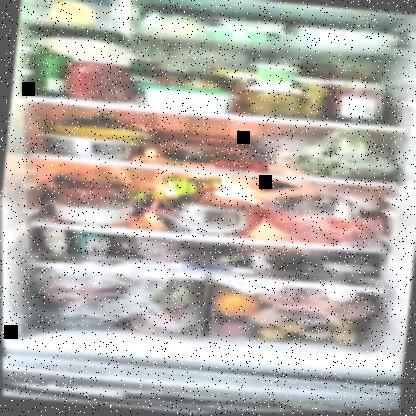banana: (44, 121, 154, 144)
cheese: (140, 82, 234, 115), (48, 35, 118, 59)
cream_cheese: (205, 23, 287, 45)
lemon: (258, 326, 288, 341), (330, 329, 358, 344)
lettuce: (290, 142, 395, 184)
mineral_water: (32, 48, 68, 97), (165, 171, 219, 193)
orange: (213, 291, 258, 318)
tomato: (57, 181, 113, 205), (208, 156, 267, 173)
tomato_paste: (66, 55, 135, 104)
yoghurt: (248, 63, 296, 89)
